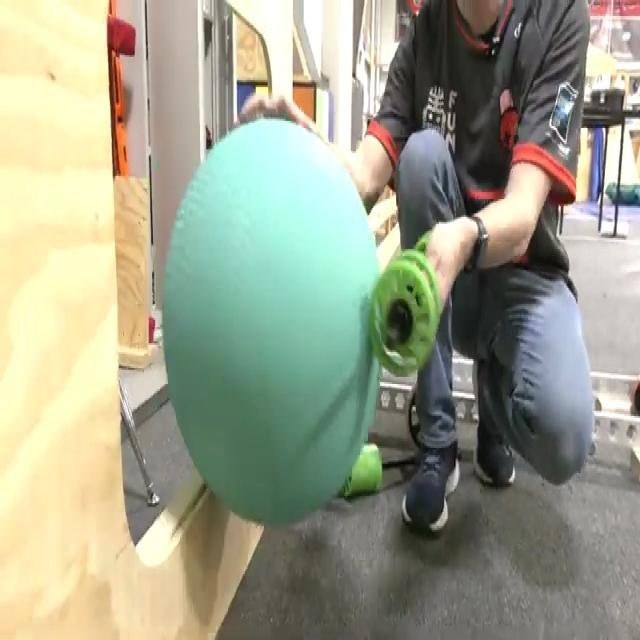Algae: (162, 118, 383, 530)
